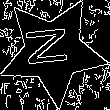N_E: (27, 29, 80, 74)
